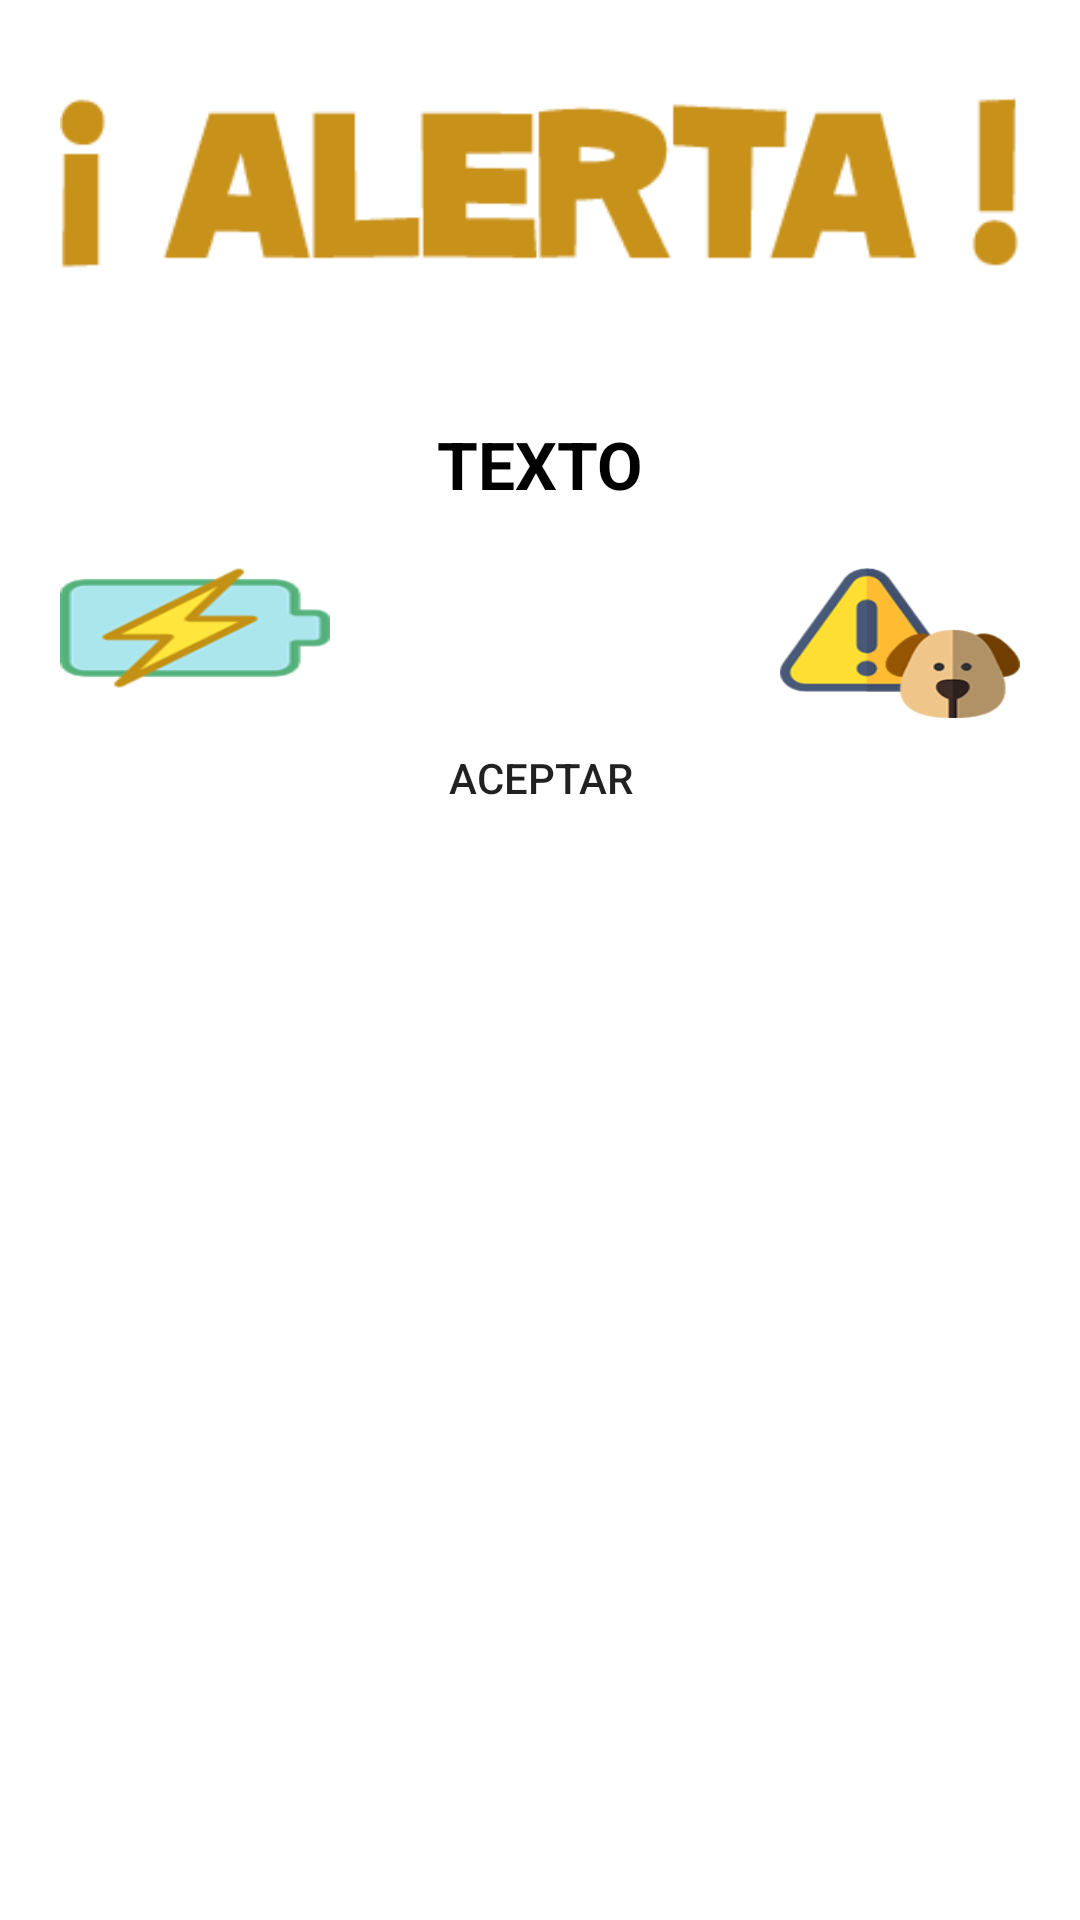

Where icons sit on this 1080 x 1920 app screen, as (x1, y1, x2, y2):
bateria: (60, 568, 330, 688)
warning perro: (780, 568, 1020, 718)
